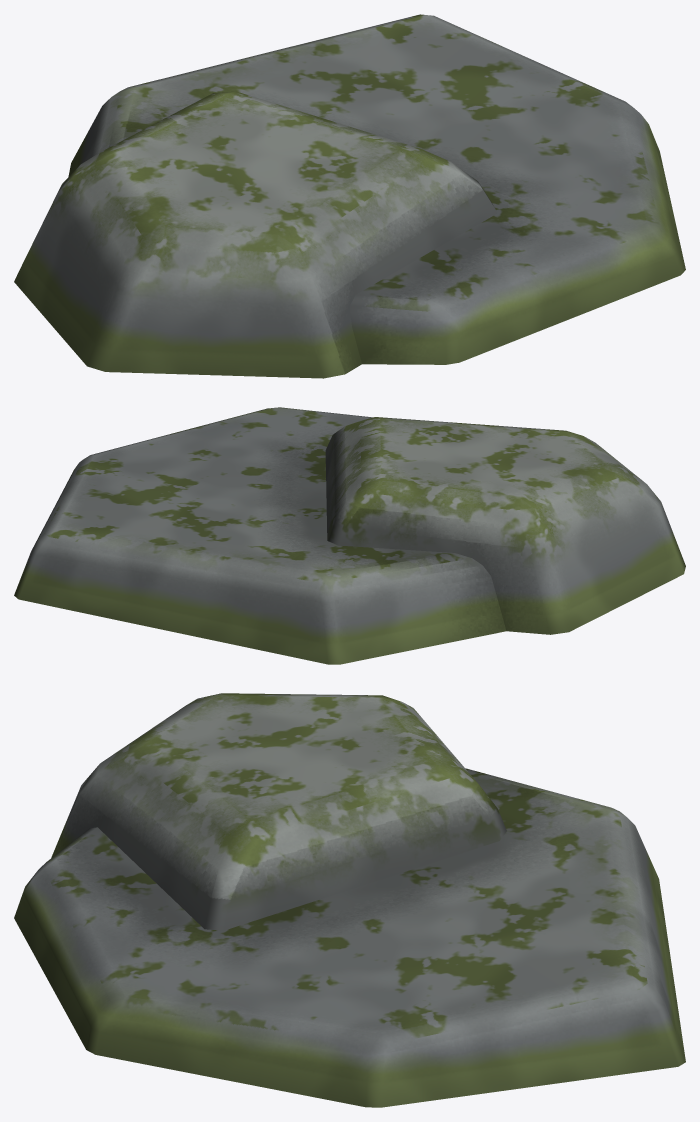
File: slab_1_mossy.glb
3 views of the same model, one above another, from view 1: azimuth 30°, elevation 25°; view 2: azimuth 150°, elevation 25°; view 3: azimuth 270°, elevation 25° (orthographic). The views are drawn at different scales.
Parts seen in each view (by area): view 1: slab_1_mossy; view 2: slab_1_mossy; view 3: slab_1_mossy.
Part boxes in pixels (box(x1,y1,x2,y2)): slab_1_mossy: box(14, 14, 685, 378); slab_1_mossy: box(14, 407, 685, 664); slab_1_mossy: box(14, 693, 685, 1107).
Bounding box in the file's own units: 2.6 × 0.5 × 2.2.
1 material, 1 textured.
